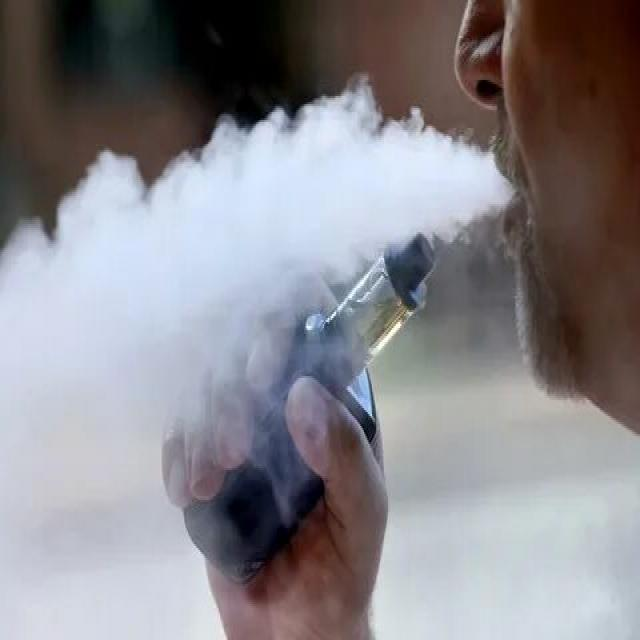smoke: (181, 226, 443, 604)
